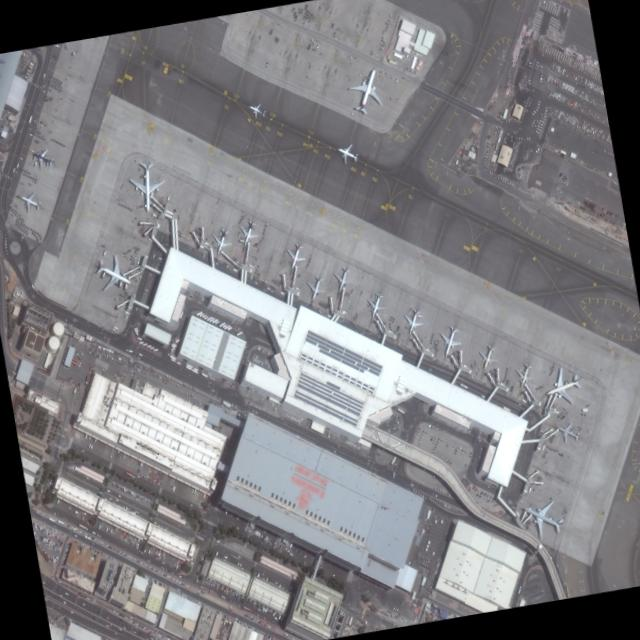large-vehicle: (170, 358, 182, 365), (126, 472, 135, 479), (195, 535, 205, 541), (79, 524, 88, 530), (391, 456, 397, 465), (460, 383, 469, 389), (231, 554, 240, 560), (243, 606, 252, 612), (209, 317, 216, 323), (134, 328, 139, 336), (504, 407, 511, 412), (224, 325, 231, 330), (219, 322, 226, 327), (196, 311, 203, 316), (58, 520, 65, 525), (29, 116, 33, 124), (153, 512, 159, 517), (212, 319, 218, 324), (84, 536, 91, 540), (12, 168, 16, 175), (145, 345, 152, 349), (141, 343, 148, 347), (152, 348, 159, 352), (49, 518, 56, 522), (221, 595, 226, 600), (96, 534, 102, 538), (138, 341, 144, 345), (136, 337, 142, 341), (112, 326, 118, 330), (237, 332, 243, 336), (227, 327, 233, 331), (222, 324, 228, 328), (207, 317, 213, 321), (201, 314, 207, 318), (199, 313, 205, 317), (148, 347, 155, 350), (172, 487, 176, 492), (168, 520, 173, 524), (159, 257, 164, 261), (328, 314, 333, 318), (280, 291, 285, 295), (98, 524, 101, 530), (55, 45, 61, 48), (542, 445, 545, 451), (74, 388, 77, 394), (204, 316, 210, 319), (92, 531, 96, 535), (147, 559, 151, 563), (64, 592, 68, 596), (238, 555, 242, 559), (285, 633, 289, 637), (234, 268, 238, 272), (130, 541, 133, 546), (110, 529, 113, 534), (107, 528, 110, 533), (90, 445, 93, 450), (253, 530, 256, 535), (256, 531, 259, 536), (194, 489, 197, 494), (278, 615, 281, 620), (139, 275, 142, 280), (215, 321, 220, 324), (196, 578, 199, 583), (85, 434, 88, 439), (141, 496, 144, 501), (75, 511, 79, 514), (120, 535, 123, 539), (132, 542, 135, 546), (38, 526, 41, 530), (161, 562, 165, 565), (148, 550, 151, 554), (41, 527, 43, 533), (117, 495, 121, 498), (107, 490, 111, 493), (255, 531, 258, 535), (115, 499, 119, 502), (158, 479, 160, 485), (269, 611, 272, 615), (226, 591, 229, 595), (274, 617, 278, 620), (272, 612, 275, 616), (393, 472, 395, 478), (482, 395, 486, 398), (267, 287, 271, 290), (216, 552, 219, 556), (136, 499, 140, 502), (135, 543, 137, 548), (129, 490, 131, 495), (127, 489, 129, 494), (124, 487, 126, 492), (113, 482, 115, 487), (89, 444, 91, 449), (264, 535, 266, 540), (266, 536, 268, 541), (258, 532, 260, 537), (265, 608, 267, 613), (263, 607, 265, 612), (73, 528, 78, 530), (95, 438, 97, 443), (81, 439, 84, 442), (31, 150, 34, 153), (304, 555, 307, 558), (258, 608, 261, 611), (136, 511, 139, 514), (129, 538, 131, 542), (106, 528, 108, 532), (120, 486, 122, 490), (131, 491, 133, 495), (122, 487, 124, 491), (40, 526, 42, 530), (133, 492, 135, 496), (268, 543, 272, 545), (300, 551, 302, 555), (224, 556, 228, 558), (171, 485, 173, 489), (216, 541, 220, 543), (266, 609, 268, 613), (268, 610, 270, 614), (89, 436, 91, 440), (148, 499, 150, 503), (143, 496, 145, 500), (139, 495, 141, 499), (35, 524, 37, 528), (129, 535, 131, 538), (82, 513, 84, 516), (118, 485, 120, 488), (134, 494, 136, 497), (261, 535, 263, 538), (138, 495, 140, 498), (126, 489, 127, 493), (147, 499, 148, 503), (145, 498, 146, 502), (125, 539, 126, 542), (136, 494, 137, 497)
plane: (341, 60, 392, 122), (516, 488, 570, 546), (91, 248, 138, 301), (540, 362, 587, 412), (129, 161, 166, 216), (436, 322, 467, 362), (552, 416, 582, 449), (400, 305, 428, 340), (16, 185, 45, 218), (208, 225, 235, 260), (334, 137, 362, 170), (303, 273, 330, 306), (363, 289, 390, 322), (475, 342, 502, 375), (236, 217, 262, 251), (330, 264, 357, 296), (30, 143, 57, 174), (283, 241, 309, 273), (513, 361, 538, 393), (247, 99, 268, 122)
small-vehicle: (398, 341, 401, 346), (46, 553, 49, 557), (118, 551, 122, 554), (32, 294, 35, 298), (112, 610, 116, 613), (139, 625, 143, 628), (86, 597, 90, 600), (82, 603, 86, 606), (143, 627, 147, 630), (567, 238, 571, 241), (233, 330, 237, 333), (256, 359, 259, 363), (134, 537, 137, 541), (46, 530, 48, 535), (192, 489, 194, 494), (67, 545, 70, 548), (58, 547, 61, 550), (42, 549, 45, 552), (47, 555, 50, 558), (94, 538, 97, 541), (133, 558, 136, 561), (138, 561, 141, 564), (92, 537, 95, 540), (81, 532, 84, 535), (79, 531, 82, 534), (78, 530, 81, 533), (71, 527, 74, 530), (67, 525, 70, 528), (45, 514, 48, 517), (44, 536, 47, 539), (125, 317, 128, 320), (98, 324, 101, 327), (126, 315, 129, 318), (78, 596, 81, 599), (119, 613, 122, 616), (125, 616, 128, 619), (132, 621, 135, 624), (135, 622, 138, 625), (138, 624, 141, 627), (142, 626, 145, 629), (116, 612, 119, 615), (58, 580, 61, 583), (83, 596, 86, 599), (59, 594, 62, 597), (90, 613, 93, 616), (159, 635, 162, 638), (115, 632, 118, 635), (119, 628, 122, 631), (107, 617, 110, 620), (155, 637, 158, 640), (156, 633, 159, 636), (358, 447, 361, 450), (353, 444, 356, 447), (382, 72, 385, 75), (216, 262, 219, 265), (168, 576, 171, 579), (170, 577, 173, 580), (244, 614, 247, 617), (267, 625, 270, 628), (249, 616, 252, 619), (186, 585, 189, 588), (177, 588, 180, 591), (269, 626, 272, 629), (53, 559, 55, 563), (62, 533, 64, 537), (51, 504, 53, 508), (54, 519, 58, 521), (55, 529, 57, 533), (99, 492, 103, 494), (73, 466, 75, 470), (89, 599, 93, 601), (76, 623, 80, 625), (58, 607, 62, 609), (249, 529, 251, 533), (259, 534, 261, 538), (245, 527, 247, 531), (235, 405, 237, 409), (299, 420, 301, 424), (298, 419, 300, 423), (388, 429, 390, 433), (355, 445, 357, 449), (168, 375, 170, 379), (180, 381, 182, 385), (172, 378, 174, 382), (472, 374, 474, 378), (434, 357, 436, 361), (360, 73, 362, 77), (259, 347, 261, 351), (256, 355, 258, 359), (254, 358, 256, 362), (255, 359, 257, 363), (320, 310, 322, 314), (226, 615, 228, 619), (138, 542, 140, 546), (198, 601, 200, 605), (175, 580, 179, 582), (211, 582, 213, 586), (208, 581, 210, 585), (148, 588, 150, 592), (230, 605, 232, 609), (182, 593, 184, 597), (265, 634, 267, 638), (152, 579, 154, 583), (155, 580, 157, 584), (411, 484, 414, 486), (47, 538, 50, 540), (67, 547, 70, 549), (66, 549, 69, 551), (52, 542, 54, 545), (48, 544, 50, 547), (50, 545, 52, 548), (52, 546, 54, 549), (88, 546, 90, 549), (65, 552, 68, 554), (110, 557, 112, 560), (99, 552, 101, 555), (95, 549, 97, 552), (93, 551, 95, 554), (85, 544, 87, 547), (54, 547, 56, 550), (45, 599, 48, 601), (57, 536, 59, 539), (51, 534, 53, 537), (52, 534, 54, 537), (56, 536, 58, 539), (47, 532, 49, 535), (43, 524, 45, 527), (52, 528, 54, 531), (58, 549, 61, 551), (61, 566, 64, 568), (61, 564, 64, 566), (63, 558, 66, 560), (37, 542, 39, 545), (50, 559, 52, 562), (49, 558, 51, 561), (52, 556, 54, 559), (51, 559, 53, 562), (117, 550, 119, 553), (114, 548, 116, 551), (91, 544, 93, 547), (131, 558, 134, 560), (129, 557, 132, 559), (124, 554, 127, 556), (92, 542, 95, 544), (108, 546, 111, 548), (106, 545, 109, 547), (99, 541, 102, 543), (136, 560, 139, 562), (90, 537, 93, 539), (88, 536, 91, 538), (85, 534, 88, 536), (83, 533, 86, 535), (97, 611, 100, 613), (71, 466, 73, 469), (62, 419, 64, 422), (10, 383, 13, 385), (124, 325, 126, 328), (136, 308, 138, 311), (20, 158, 23, 160), (130, 617, 133, 619), (120, 619, 123, 621), (130, 621, 133, 623), (136, 624, 139, 626), (79, 592, 82, 594), (77, 593, 80, 595), (80, 595, 83, 597), (64, 602, 67, 604), (92, 618, 95, 620), (161, 636, 163, 639), (71, 611, 74, 613), (69, 619, 72, 621), (106, 625, 109, 627), (110, 624, 113, 626), (146, 638, 149, 640), (134, 631, 136, 634), (123, 627, 126, 629), (151, 638, 154, 640), (145, 628, 148, 630), (151, 631, 154, 633), (154, 627, 156, 630), (166, 375, 168, 378), (274, 545, 277, 547), (267, 539, 269, 542), (250, 530, 252, 533), (287, 415, 289, 418), (286, 414, 288, 417), (289, 415, 291, 418), (212, 390, 215, 392), (212, 378, 214, 381), (252, 410, 255, 412), (290, 416, 292, 419), (296, 419, 298, 422), (295, 418, 297, 421), (294, 417, 296, 420), (291, 417, 293, 420), (145, 289, 148, 291), (268, 365, 270, 368), (265, 360, 267, 363), (351, 443, 353, 446), (357, 446, 359, 449), (352, 444, 354, 447), (350, 442, 352, 445), (347, 441, 349, 444), (346, 441, 348, 444), (331, 435, 333, 438), (329, 435, 331, 438), (259, 361, 261, 364), (328, 435, 330, 438), (329, 432, 331, 435), (251, 276, 253, 279), (250, 277, 252, 280), (271, 291, 274, 293), (258, 347, 260, 350), (268, 352, 270, 355), (263, 350, 265, 353), (250, 627, 252, 630), (221, 613, 223, 616), (51, 541, 53, 544), (163, 637, 166, 639), (167, 638, 170, 640), (165, 638, 168, 640), (136, 546, 138, 549), (114, 531, 116, 534), (122, 507, 125, 509), (199, 602, 201, 605), (167, 576, 170, 578), (149, 566, 152, 568), (151, 567, 153, 570), (161, 573, 164, 575), (163, 574, 166, 576), (164, 575, 167, 577), (143, 564, 146, 566), (177, 581, 180, 583), (179, 582, 181, 585), (180, 583, 183, 585), (196, 601, 198, 604), (204, 579, 206, 582), (178, 573, 181, 575), (140, 562, 143, 564), (144, 593, 146, 596), (147, 583, 149, 586), (183, 583, 185, 586), (198, 590, 200, 593), (185, 584, 187, 587), (253, 618, 255, 621), (248, 615, 250, 618), (179, 593, 181, 596), (185, 596, 187, 599), (270, 636, 272, 639), (292, 638, 295, 640), (147, 577, 149, 580), (159, 583, 161, 586), (160, 583, 162, 586), (163, 584, 165, 587), (162, 584, 164, 587), (87, 545, 88, 549), (101, 552, 102, 556), (102, 555, 103, 559), (76, 539, 78, 541), (65, 554, 67, 556), (62, 539, 64, 541), (64, 556, 66, 558), (60, 544, 62, 546), (121, 552, 123, 554), (128, 556, 130, 558), (123, 553, 125, 555), (112, 548, 114, 550), (110, 547, 112, 549), (105, 544, 107, 546), (102, 542, 104, 544), (87, 535, 89, 537), (121, 612, 123, 614), (128, 623, 130, 625), (122, 615, 124, 617), (85, 627, 87, 629), (158, 634, 160, 636), (276, 582, 278, 584), (256, 412, 258, 414), (213, 379, 215, 381), (262, 362, 263, 366), (334, 451, 336, 453), (258, 360, 259, 364), (319, 310, 321, 312), (218, 611, 219, 615), (225, 615, 226, 619), (234, 620, 236, 622), (237, 621, 239, 623), (242, 622, 243, 626), (247, 627, 249, 629), (112, 532, 114, 534), (152, 568, 154, 570), (172, 578, 174, 580), (147, 566, 149, 568), (142, 563, 144, 565), (202, 558, 204, 560), (156, 570, 158, 572), (158, 571, 160, 573), (257, 620, 259, 622), (246, 615, 248, 617), (181, 592, 182, 596), (184, 594, 185, 598), (145, 575, 146, 579), (154, 579, 155, 583), (157, 581, 158, 585), (45, 542, 46, 545), (47, 540, 48, 543), (50, 541, 51, 544), (46, 539, 47, 542), (106, 555, 107, 558), (90, 547, 91, 550), (81, 544, 82, 547), (83, 544, 84, 547), (50, 533, 51, 536), (54, 535, 55, 538), (55, 535, 56, 538), (60, 538, 61, 541), (51, 528, 52, 531), (49, 532, 50, 535), (60, 568, 63, 569), (41, 536, 42, 539), (140, 639, 143, 640), (156, 619, 157, 622), (252, 530, 253, 533), (232, 404, 233, 407), (293, 417, 294, 420), (386, 431, 387, 434), (252, 627, 253, 630), (253, 627, 254, 630), (220, 612, 221, 615), (230, 617, 231, 620), (249, 626, 250, 629), (243, 623, 244, 626), (246, 625, 247, 628), (55, 543, 56, 546), (222, 636, 223, 639), (150, 585, 151, 588), (146, 576, 147, 579), (45, 539, 46, 541), (51, 546, 52, 548), (54, 547, 55, 549), (102, 553, 103, 555), (94, 549, 95, 551), (59, 537, 60, 539), (349, 442, 350, 444), (231, 618, 232, 620), (239, 622, 240, 624), (61, 542, 63, 543), (43, 541, 44, 543), (102, 639, 103, 640)
